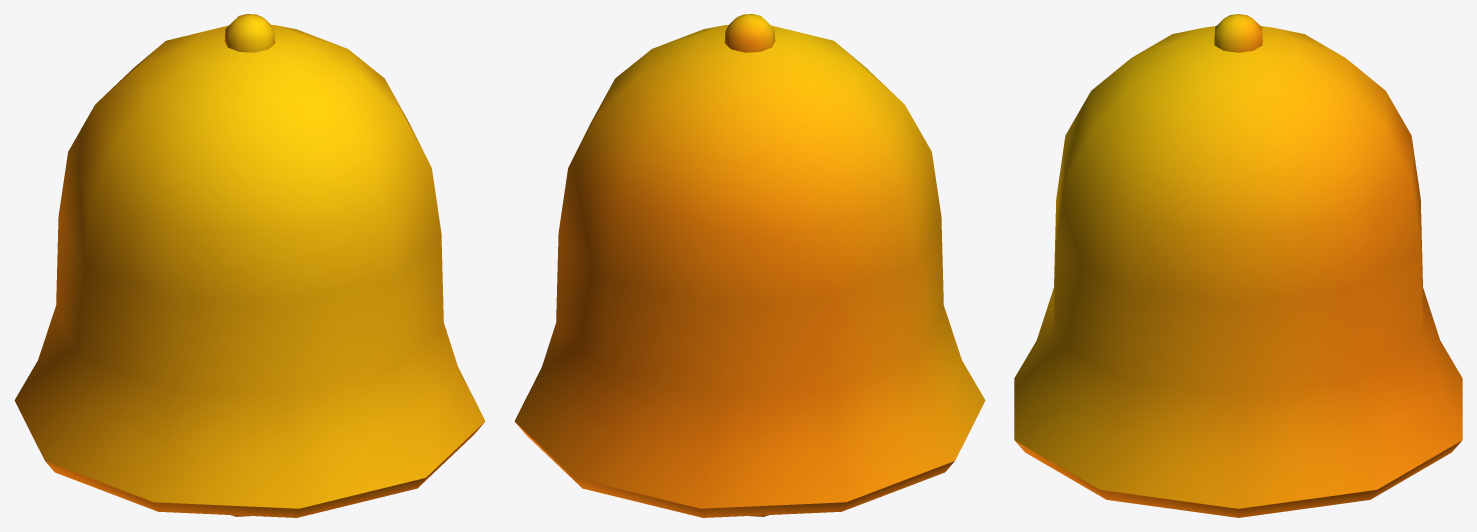
The model's file is Bell.FBX.
3 views of the same model, side by side, from view 1: azimuth 30°, elevation 25°; view 2: azimuth 150°, elevation 25°; view 3: azimuth 270°, elevation 25° (orthographic).
Visible parts, largest first — view 1: Bell; view 2: Bell; view 3: Bell.
Boxes of the visible parts, <box> form: Bell: <box>14,14,485,517</box>; Bell: <box>514,14,985,517</box>; Bell: <box>1014,14,1462,517</box>.
Size of the model in its own units: 71.11 by 82.71 by 67.63.
